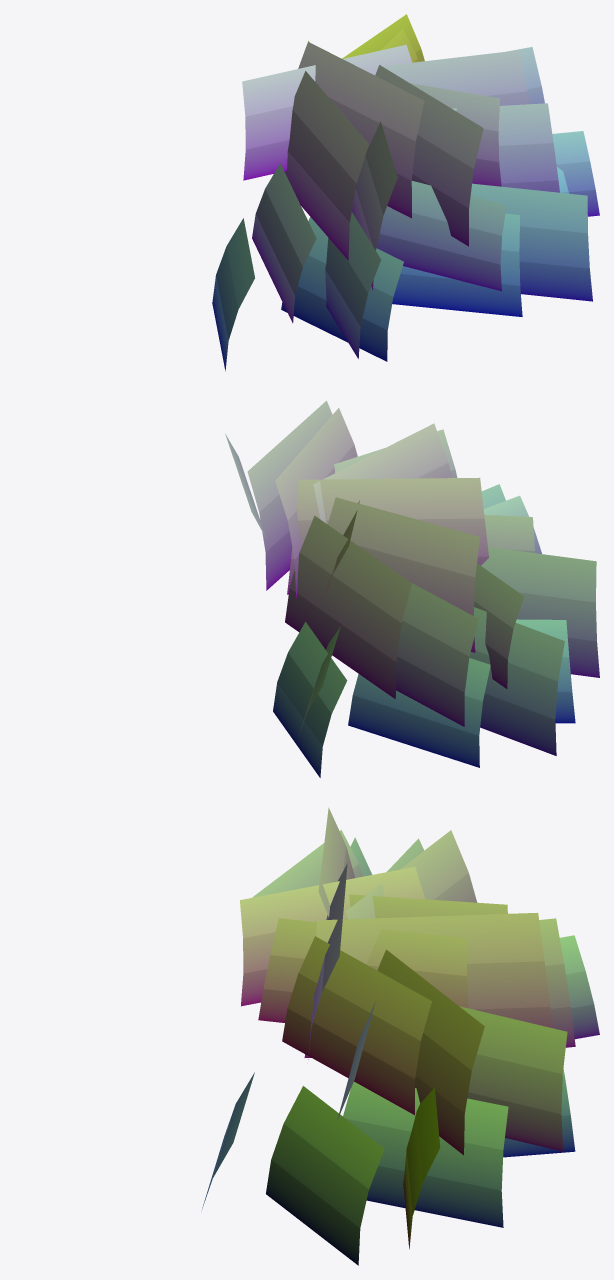
The model's file is mound_soft.glb.
The picture shows the model from 3 angles, top to bottom: view 1: azimuth 30°, elevation 25°; view 2: azimuth 150°, elevation 25°; view 3: azimuth 270°, elevation 25°; orthographic projection. The views are drawn at different scales.
Parts seen in each view (by area): view 1: mound_soft; view 2: mound_soft; view 3: mound_soft.
Boxes of the visible parts, x1=… form: mound_soft: x1=212, y1=14, x2=599, y2=371; mound_soft: x1=225, y1=400, x2=599, y2=777; mound_soft: x1=202, y1=807, x2=599, y2=1265.
Bounding box in the file's own units: 2.96 × 1.13 × 2.42.
